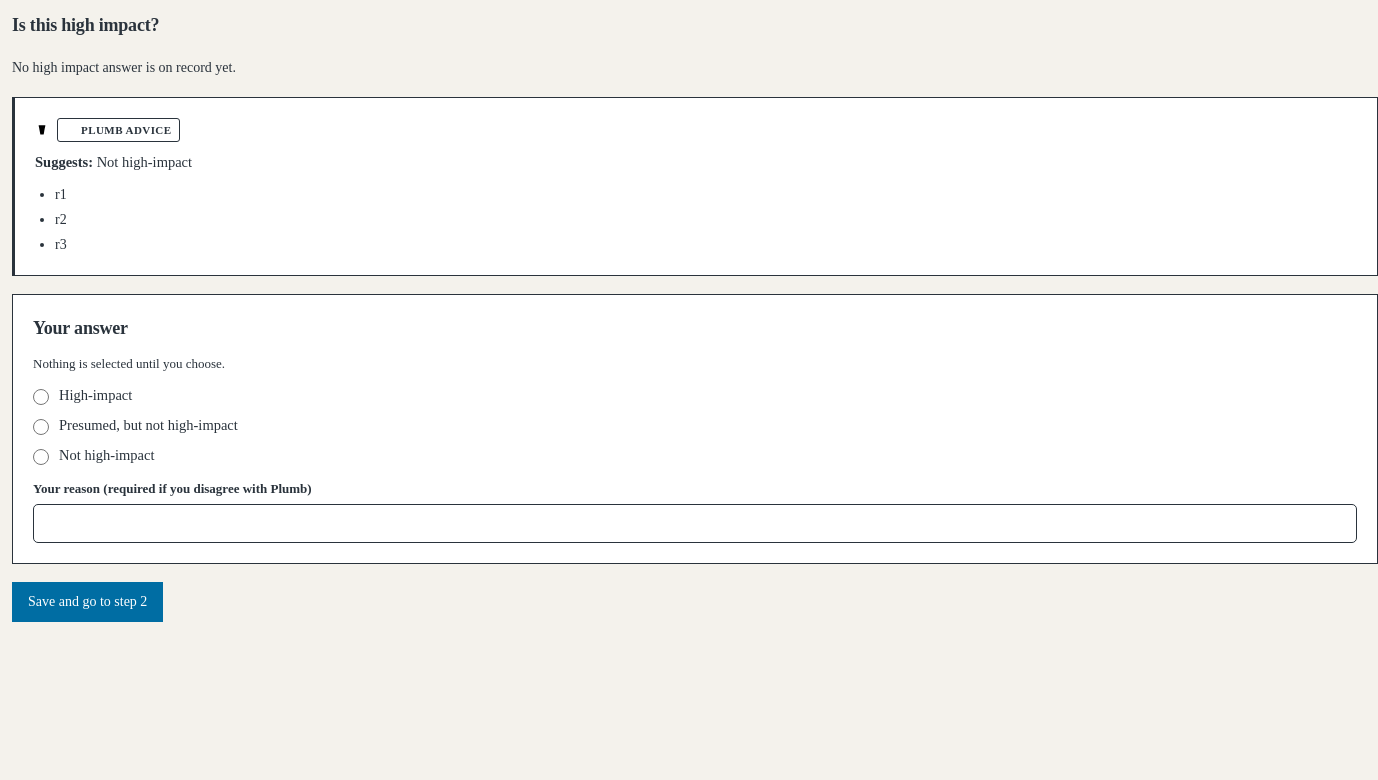
it: ES2 review step screen: saving › choosing differently from Plumb with no reason explains what is needed and saves nothing
Click the radio button labelled "High-impact" at (41, 397), box [33,389,49,405]
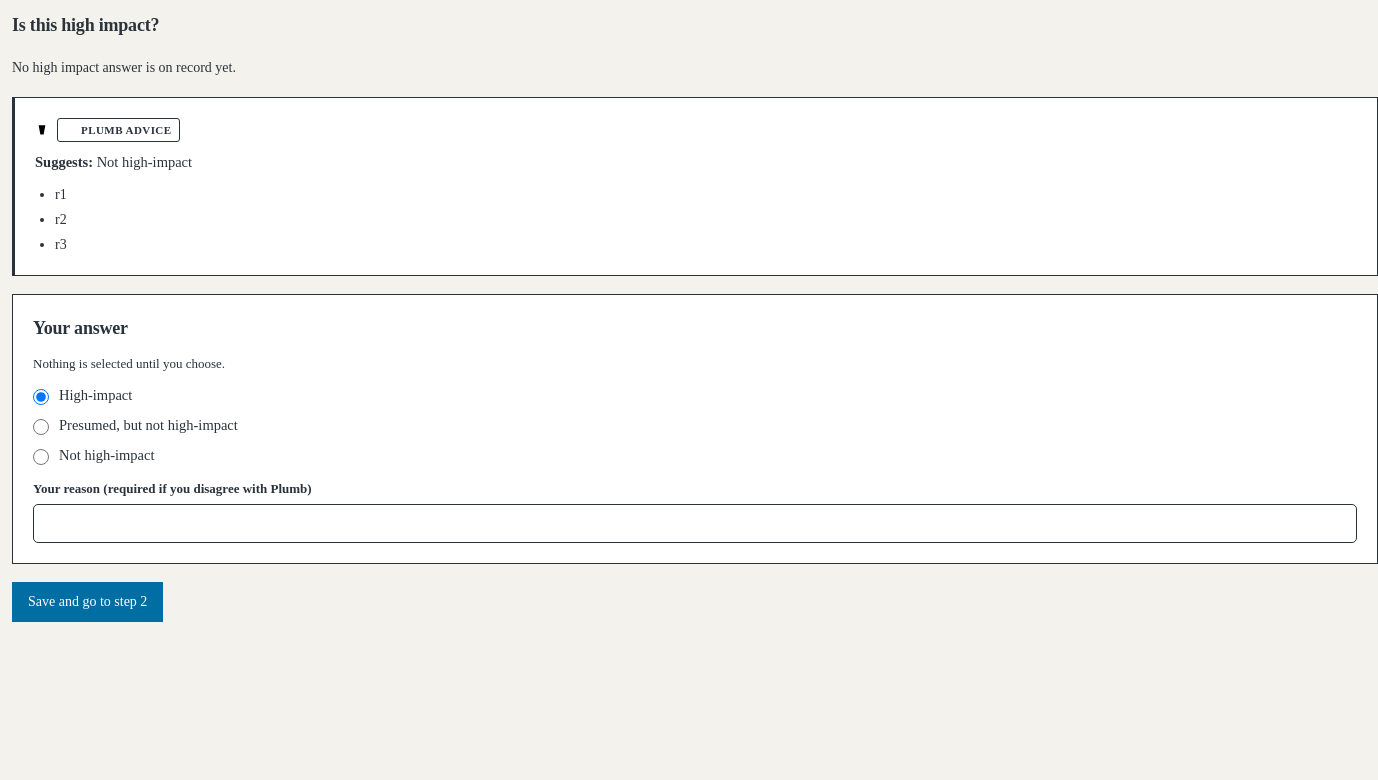
Click the button "Save and go to step 2" at (88, 602), box [12,582,163,622]
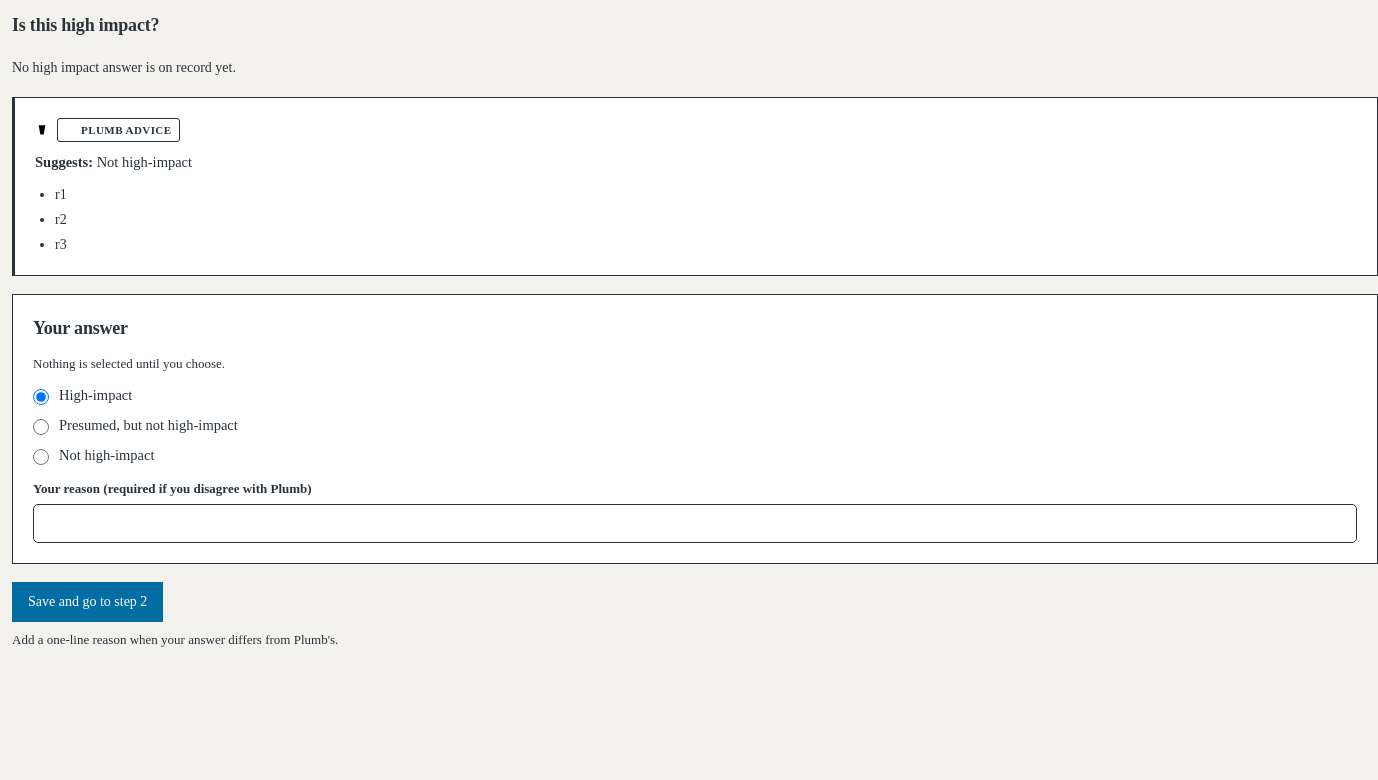
Expected: the message "Add a one-line reason when your answer differs from Plumb's." is shown, [12,632,338,647]
